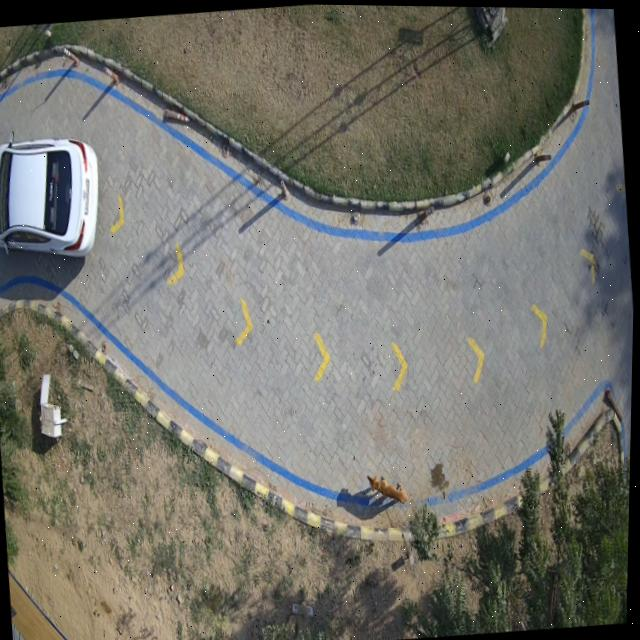car: (0, 137, 99, 257)
